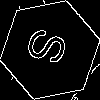S: (25, 25, 77, 72)
